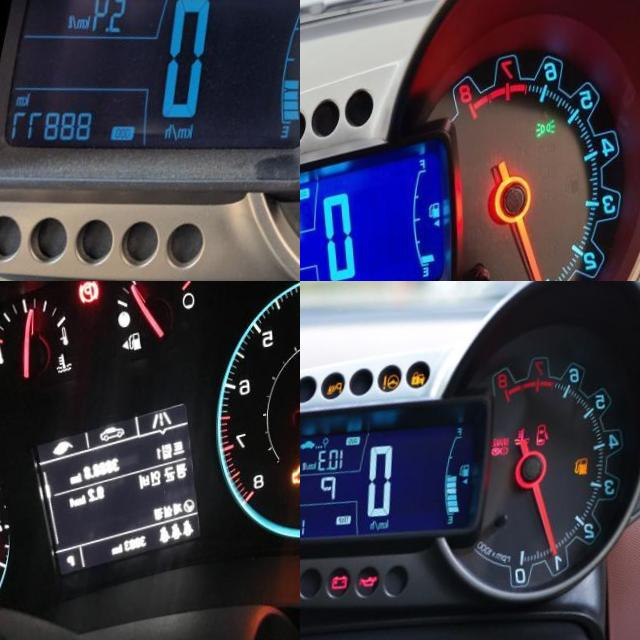Doors: (534, 438, 551, 466)
Engine cooling system: (514, 442, 531, 464)
Low fuel level: (573, 475, 591, 497)
SideLamp: (535, 137, 557, 158)
